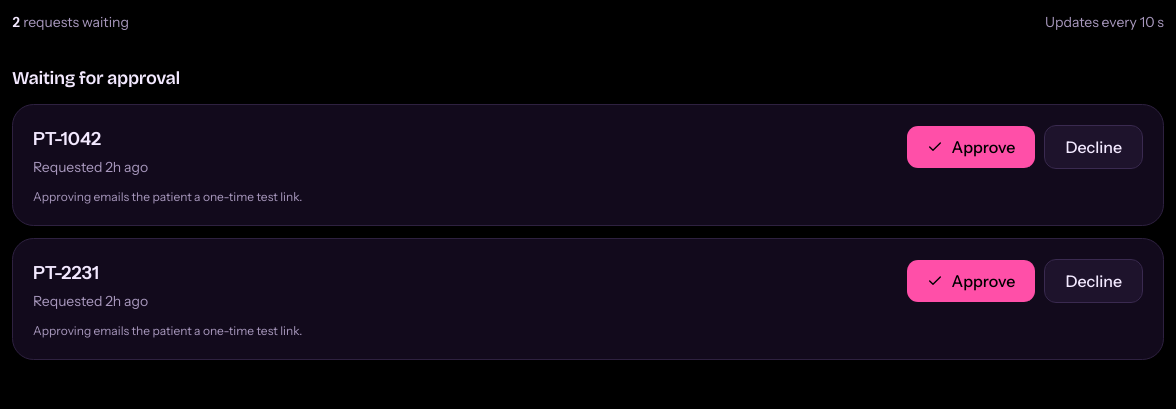
Scenario: RequestsInbox › shows a row error on a network failure and keeps the request
Click the button with aria-label "Approve refill request for PT-1042" at (972, 147), box [906,125,1036,169]
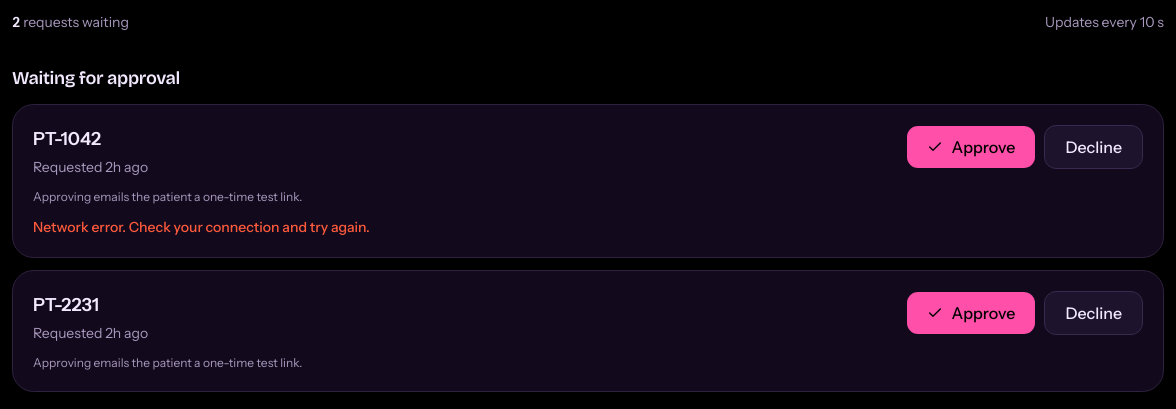
Expected: the text "PT-1042" is shown, [33,128,101,150]
Now the message shows "Network error", box [33,218,370,236]
